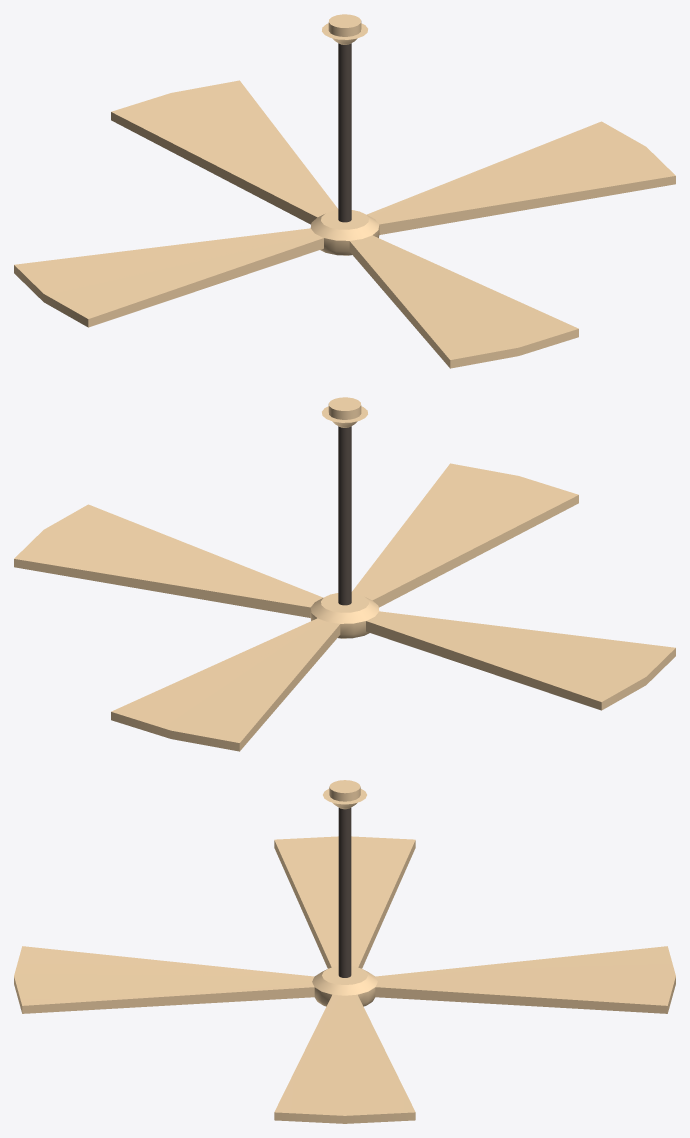
Rendered from fan6.glb.
3 views of the same model, one above another, from view 1: azimuth 30°, elevation 25°; view 2: azimuth 150°, elevation 25°; view 3: azimuth 270°, elevation 25° (orthographic). The views are drawn at different scales.
Visible parts, largest first — view 1: Fan6_Tris; view 2: Fan6_Tris; view 3: Fan6_Tris.
Part boxes in pixels (<box>): Fan6_Tris: <box>14,14,675,368</box>; Fan6_Tris: <box>14,397,675,751</box>; Fan6_Tris: <box>14,780,675,1123</box>.
Size of the model in its own units: 3.39 by 1.2 by 3.39.
